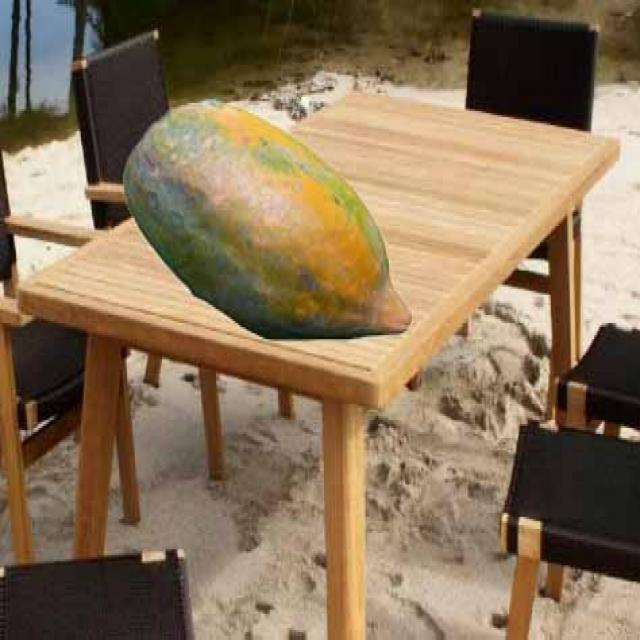Pepaya rippen: (126, 99, 412, 355)
